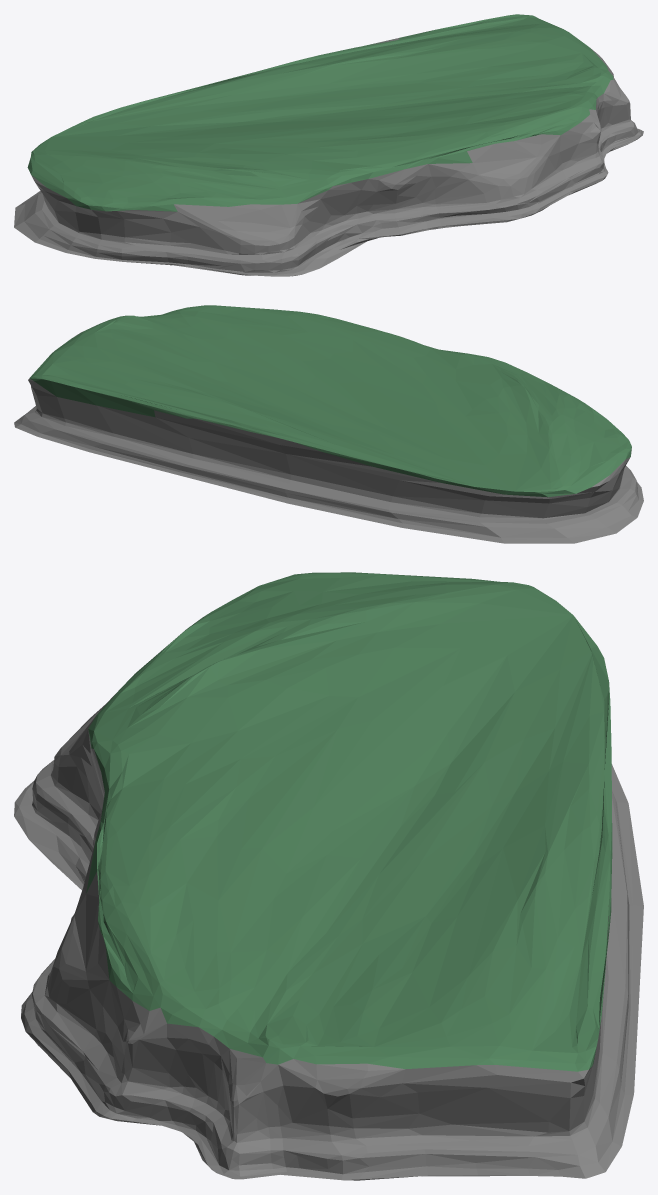
Rendered from berg_1.fbx.
The picture shows the model from 3 angles, top to bottom: view 1: azimuth 30°, elevation 25°; view 2: azimuth 150°, elevation 25°; view 3: azimuth 270°, elevation 25°; orthographic projection. The views are drawn at different scales.
Parts seen in each view (by area): view 1: Extrude_2; view 2: Extrude_2; view 3: Extrude_2.
Part boxes in pixels (box(x1,y1,x2,y2)): Extrude_2: box(14, 14, 643, 276); Extrude_2: box(14, 305, 643, 543); Extrude_2: box(14, 572, 643, 1180).
Bounding box in the file's own units: 46689 × 5782 × 23357.
